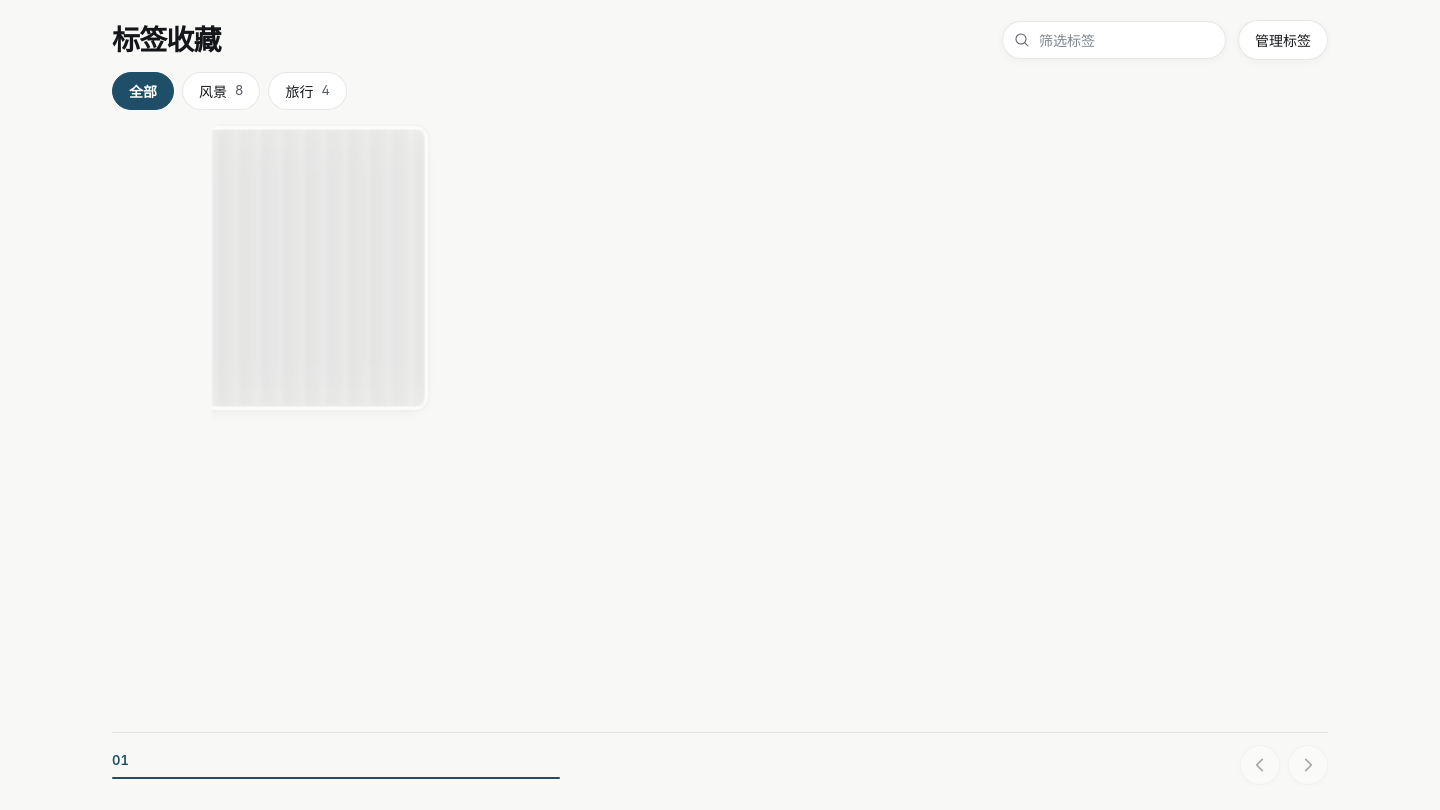
refreshes counts and the selected wall after returning from the player
This screenshot has width=1440, height=810.
Click the button with aria-label "打开标签 风景" at (221, 91), box [182,72,260,110]
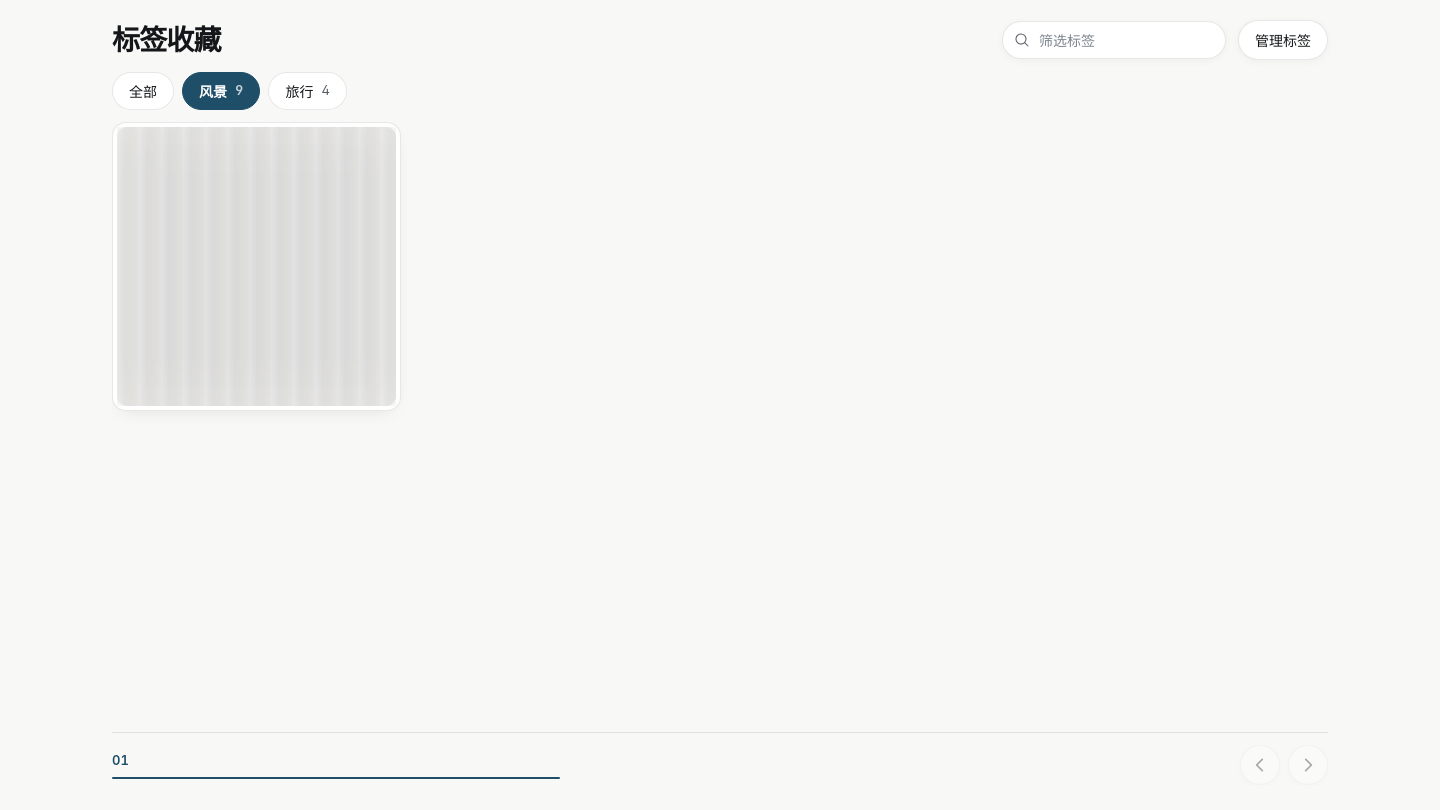
Result: the button with aria-label "打开标签 风景" shows "9" at [182,72,260,110]
